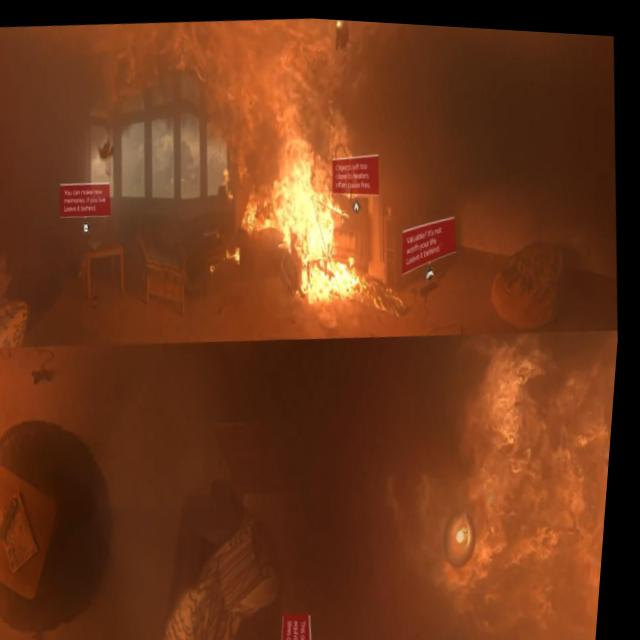fire: (232, 104, 408, 319)
